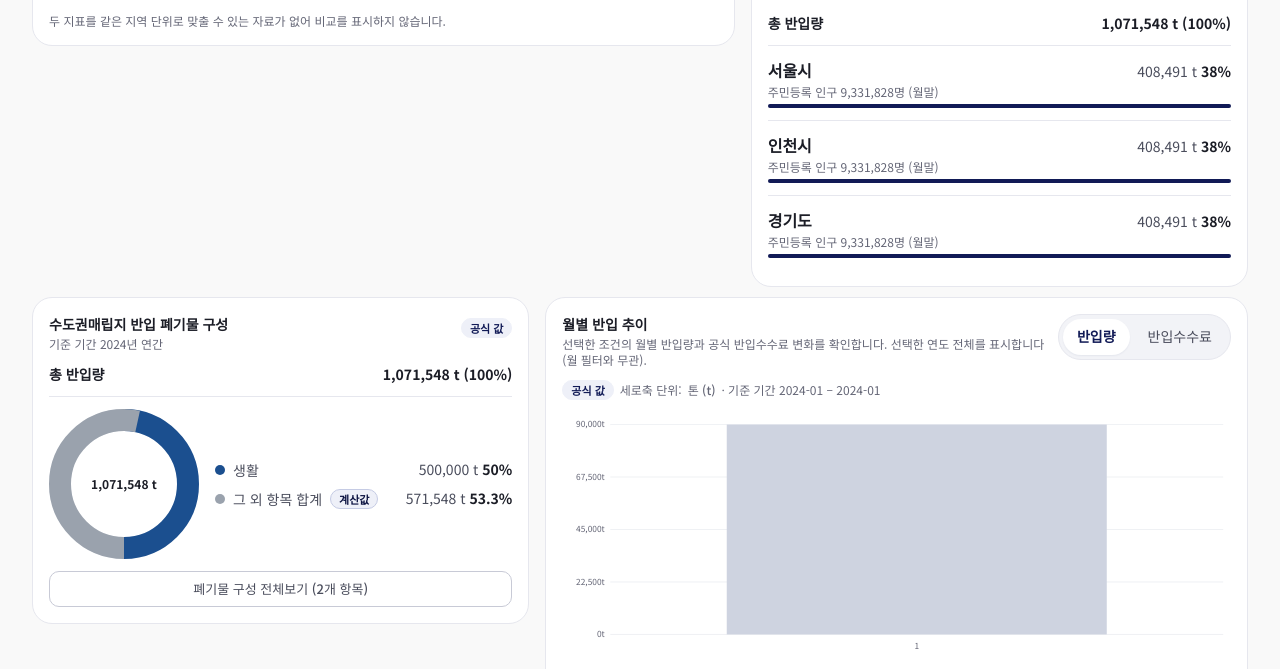
Test: LandfillDashboard › labels the trend chart with the unit of the metric currently shown
(page scrolled)
Expected: the element with test id "landfill-trends" shows "세로축 단위", x1=620 y1=381 x2=682 y2=398
Expected: the element with test id "landfill-trends" shows "톤 (t)", x1=688 y1=381 x2=715 y2=398
Click the button with test id "landfill-trend-metric-fee": (1180, 337) x1=1134 y1=319 x2=1226 y2=355
(page scrolled)
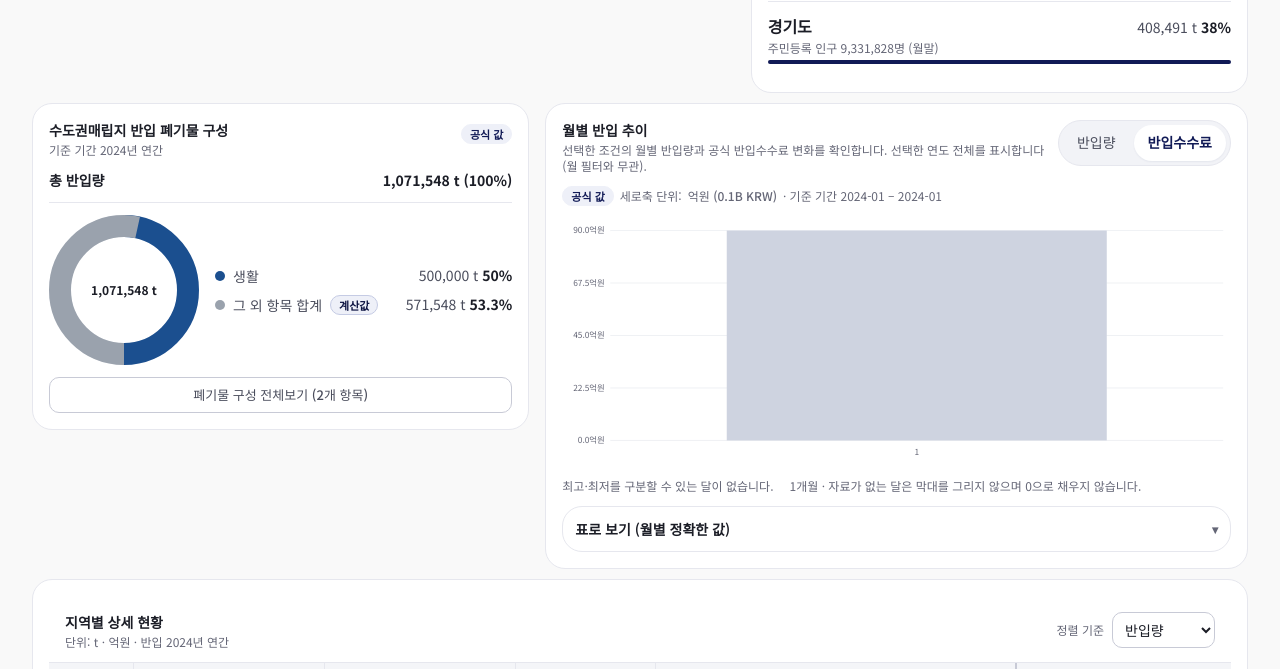
Result: the element with test id "landfill-trends" shows "억원" at x1=688 y1=187 x2=777 y2=204
Result: the text with test id "landfill-trends" no longer shows "톤 (t)"
